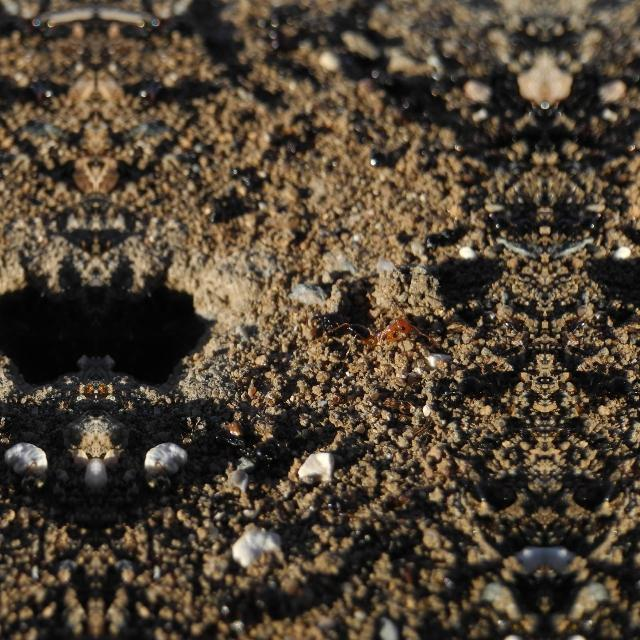Cataglyphis: (301, 297, 409, 365), (391, 308, 451, 380), (221, 413, 273, 473), (227, 158, 259, 192)
